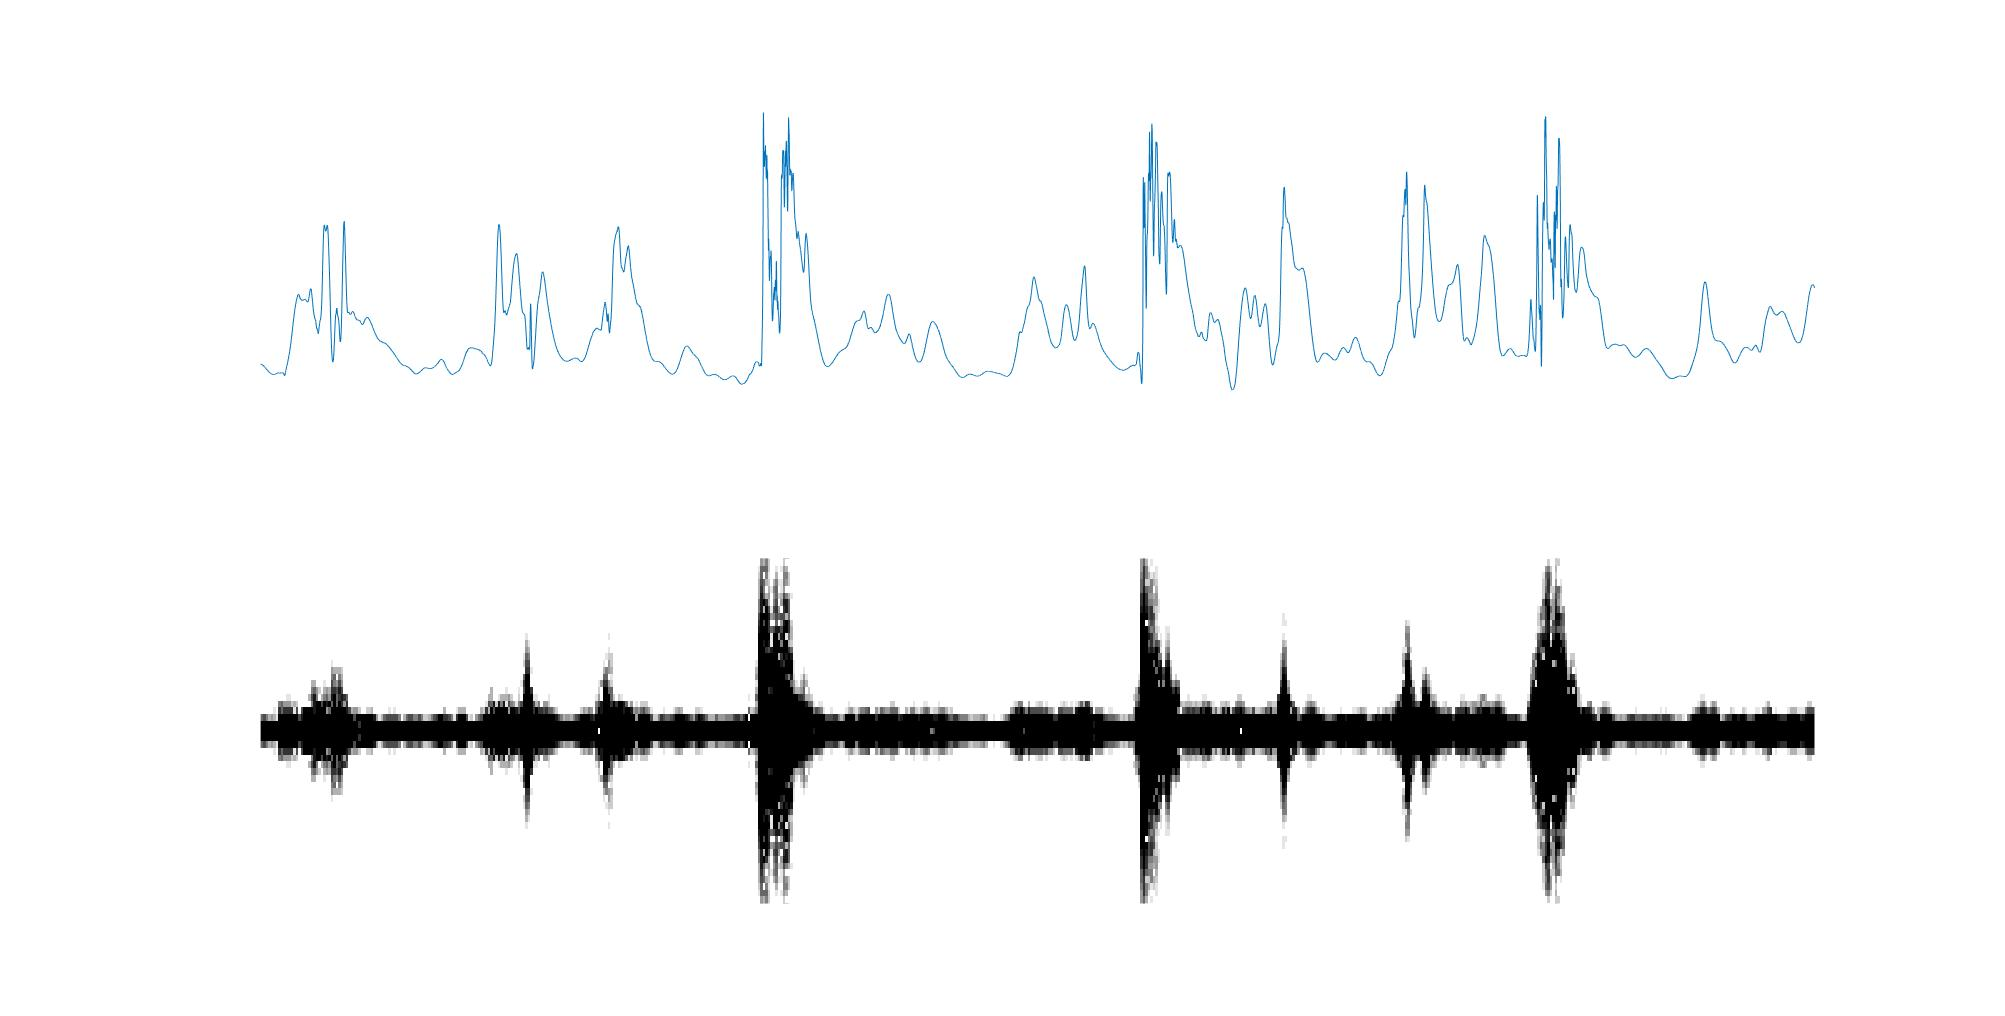spot: (754, 556, 812, 911), (1530, 565, 1591, 905), (1135, 556, 1181, 912)
